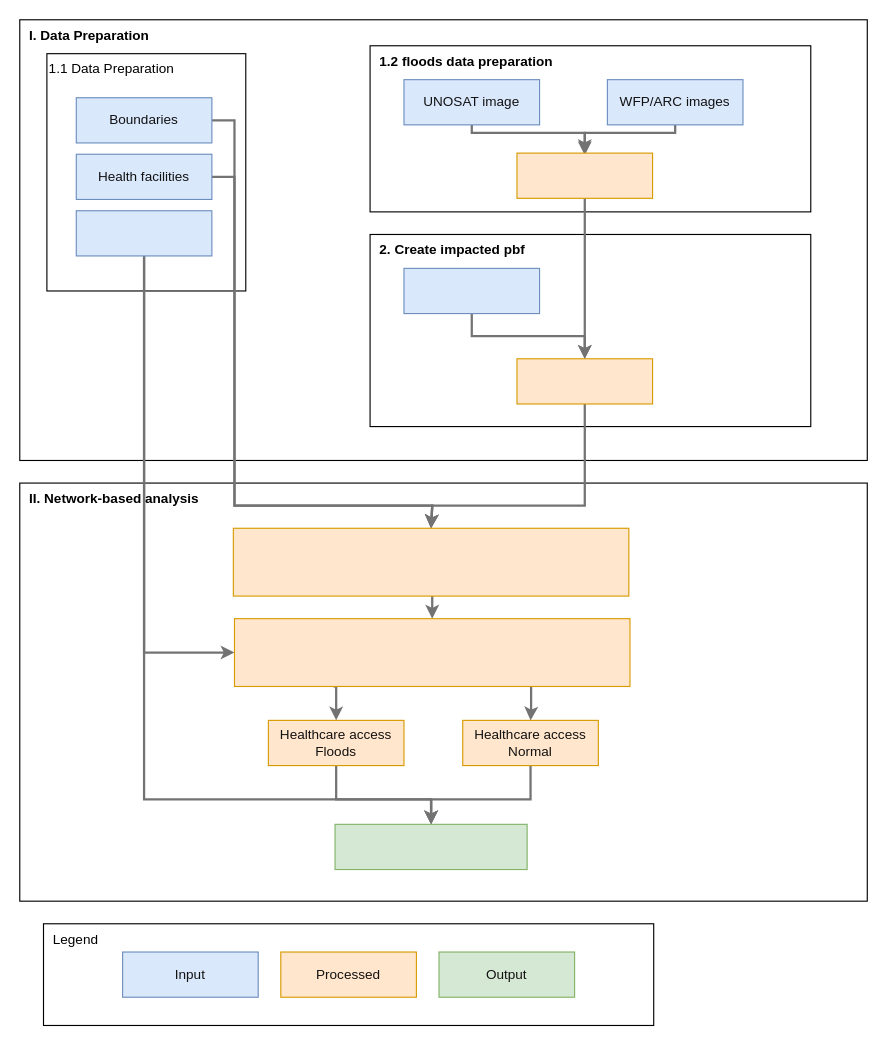
The diagram is 887 pixels wide and 1045 high, and some of its shapes have lost their labels. The shapes that lost their labels are listed below. From the top down, each one's centre as x and y in pixels, then its label:
At (584,175): "Floods extent".
At (143,233): "Population".
At (471,290): "OSM extract".
At (584,381): "OSM extract flooded".
At (430,561): "Process Isochrones".
At (431,652): "Population count".
At (430,846): "Loss of access".
